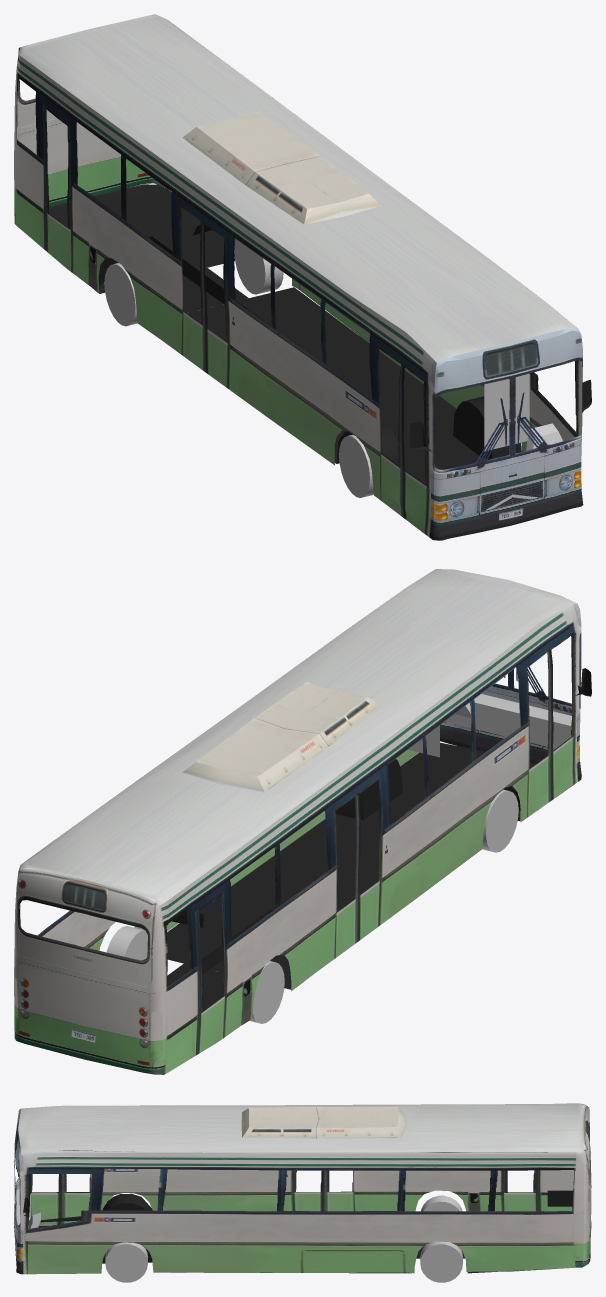
File: Bus.FBX
3 renders of one model, top to bottom at view 1: azimuth 30°, elevation 25°; view 2: azimuth 150°, elevation 25°; view 3: azimuth 270°, elevation 25°, orthographic. The views are drawn at different scales.
Parts seen in each view (by area): view 1: 31BUS, rueda001, rueda003, rueda002; view 2: 31BUS, rueda001, rueda003, rueda002; view 3: 31BUS, rueda002, rueda, rueda003.
Boxes of the visible parts, x1,y1,x2,y2 form: 31BUS: [14, 14, 591, 540]; rueda001: [339, 434, 373, 497]; rueda003: [104, 263, 137, 326]; rueda002: [234, 239, 283, 294]; 31BUS: [14, 569, 591, 1074]; rueda001: [482, 789, 518, 852]; rueda003: [249, 961, 284, 1023]; rueda002: [106, 926, 147, 960]; 31BUS: [14, 1103, 591, 1274]; rueda002: [420, 1241, 463, 1282]; rueda: [105, 1242, 147, 1282]; rueda003: [421, 1195, 462, 1211].
Bounding box in the file's own units: 3.01 × 3.35 × 12.4.
